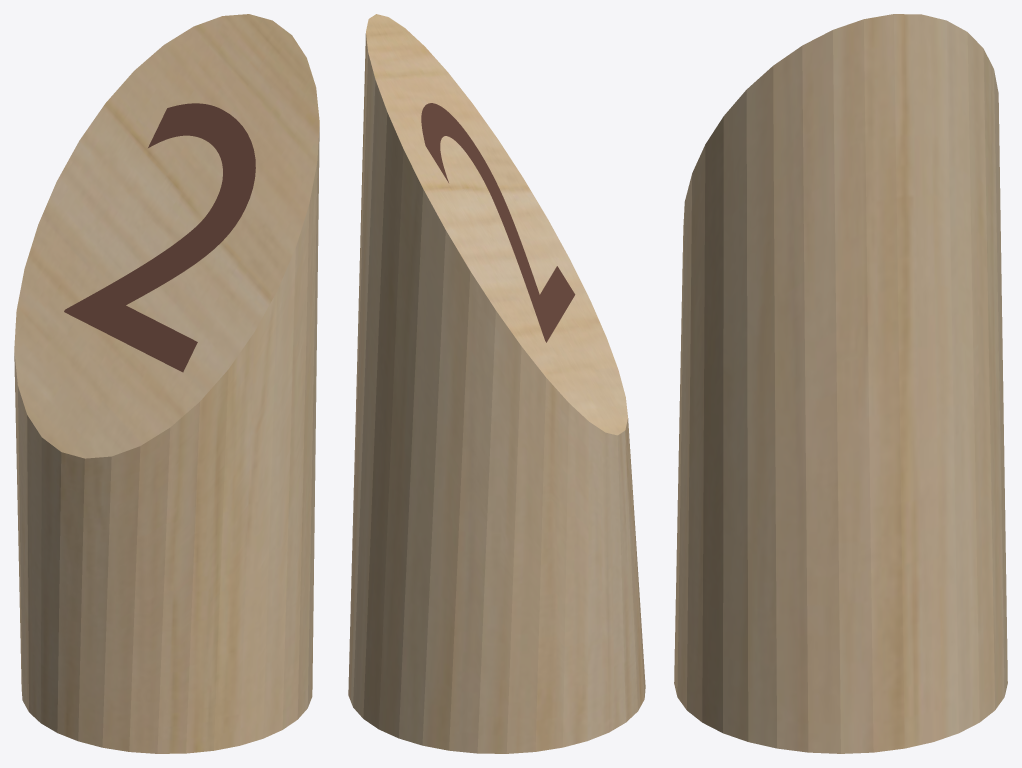
The model's file is pin2.glb.
3 renders of one model, left to right at view 1: azimuth 30°, elevation 25°; view 2: azimuth 150°, elevation 25°; view 3: azimuth 270°, elevation 25°, orthographic. The views are drawn at different scales.
Visible parts, largest first — view 1: 円柱.001; view 2: 円柱.001; view 3: 円柱.001.
Part boxes in pixels (x1,y1,x2,y2): 円柱.001: [14, 14, 319, 753]; 円柱.001: [348, 14, 645, 753]; 円柱.001: [674, 14, 1007, 753].
Bounding box in the file's own units: 1.16 × 2.79 × 1.16.
Materials: 2 (1 with a texture image).
